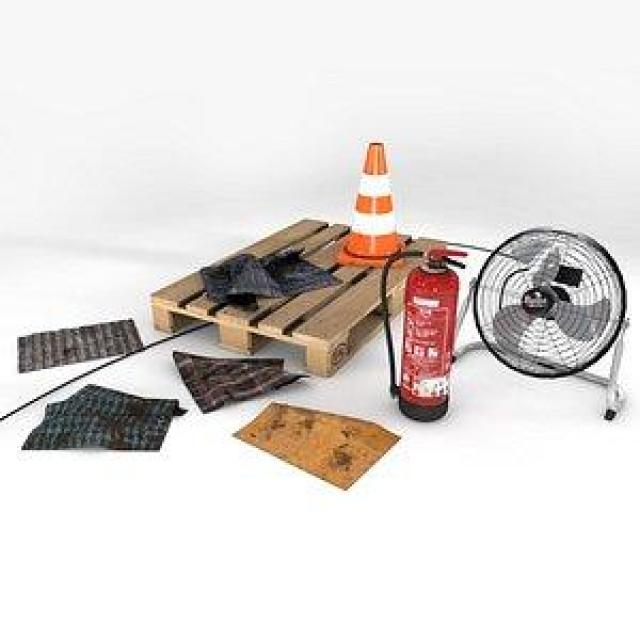fire_extinguisher: (377, 238, 472, 421)
